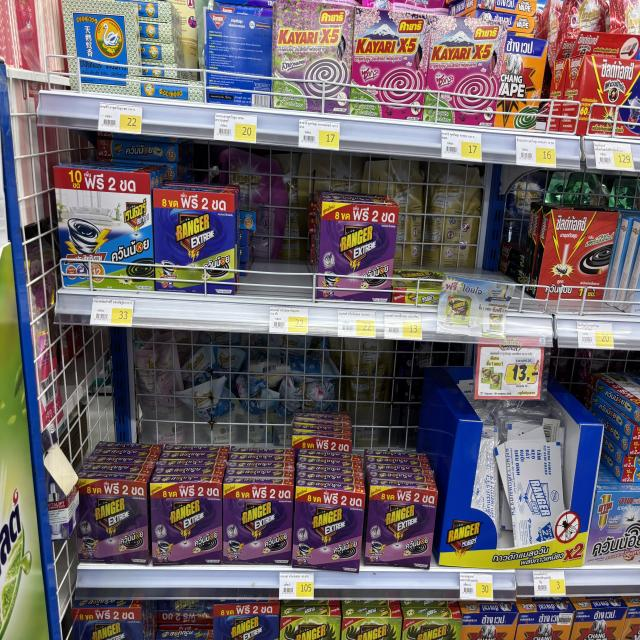empty_shelf: (395, 200, 545, 308), (240, 187, 319, 302)
